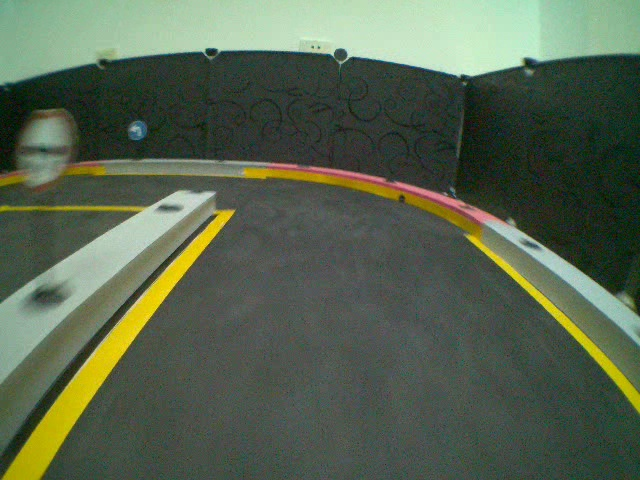Check: (17, 106, 79, 193)
turn: (127, 119, 147, 140)
